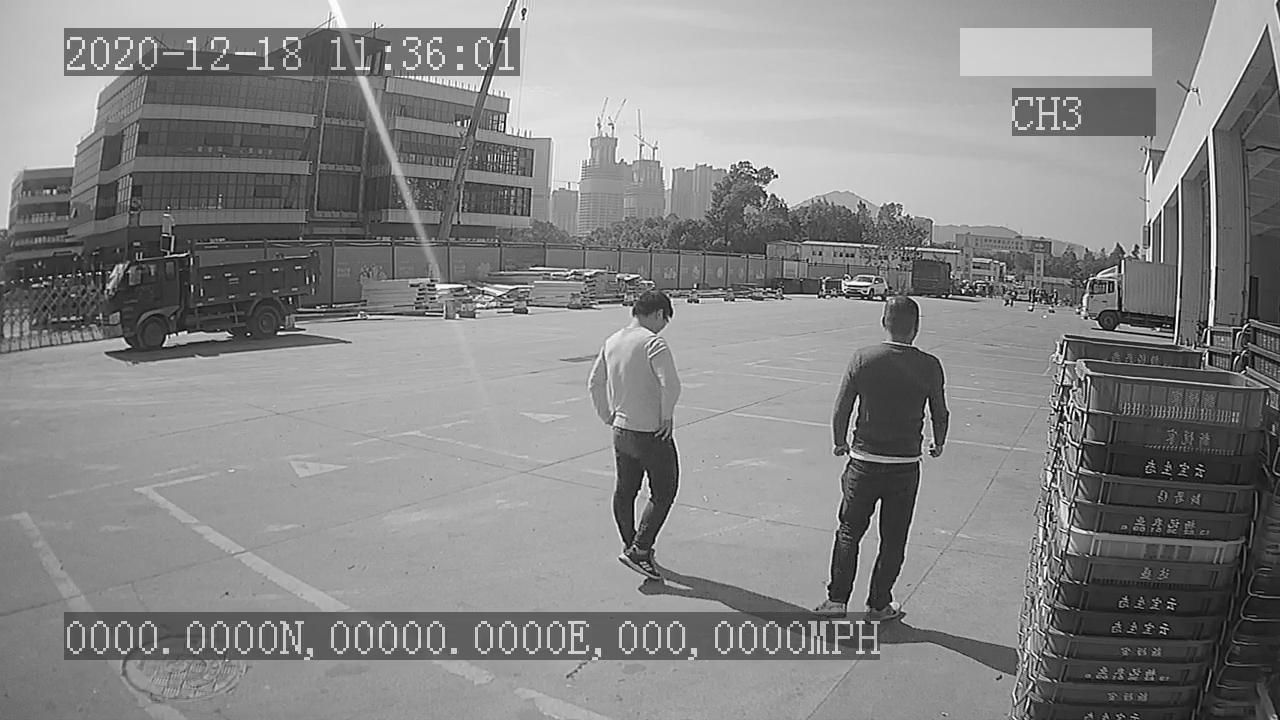person: (587, 288, 690, 580)
